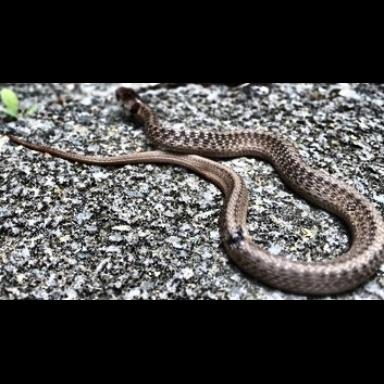snake: (0, 84, 384, 298)
